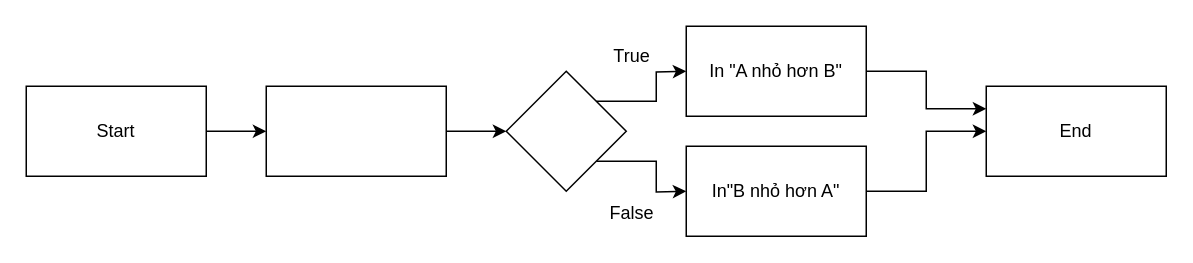
Some shapes in this 1193 by 263 pixel diagram are drawn without their labels. Here are the shapes that lost their labels. From the top down, the centre of each, then its label:
the point at 355,130: Nhập số A,B
the point at 565,130: A<B?
